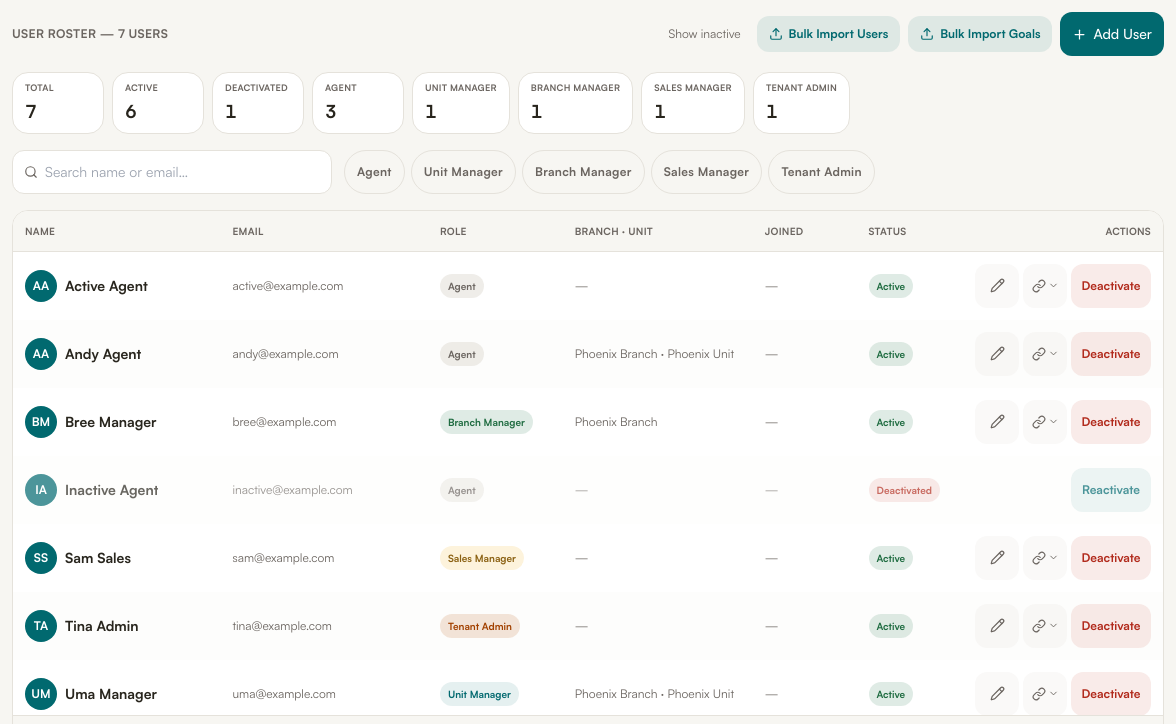
Scenario: UserManagementPanel — roster v2 (Tier-4 #17: stat strip, search, role filters, RoleChip, Branch·Unit) › role filter chip narrows the table to that role only
Expected: the text "Andy Agent" is shown, [65,344,141,364]
Click the button with test id "role-filter-unit_manager" at coordinates (463, 172), box [411,150,516,194]
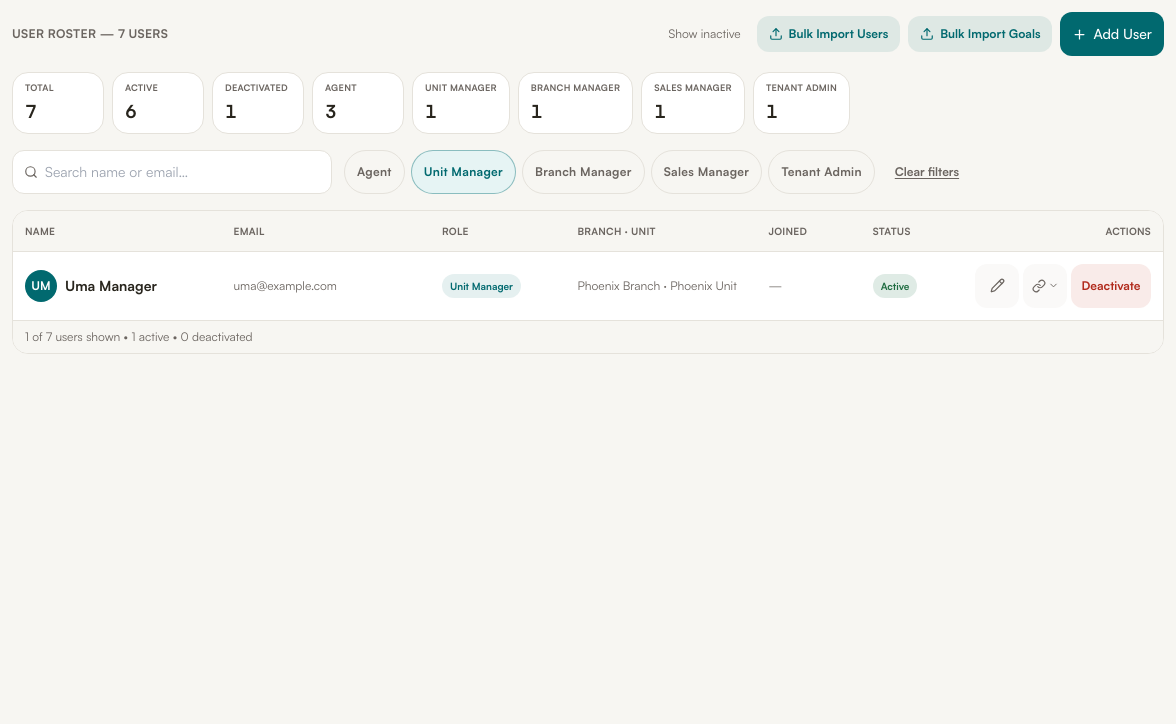
Expected: the text "Uma Manager" is shown, [65,276,157,296]
Expected: the text "Andy Agent" is gone
Expected: the text "Tina Admin" is gone
